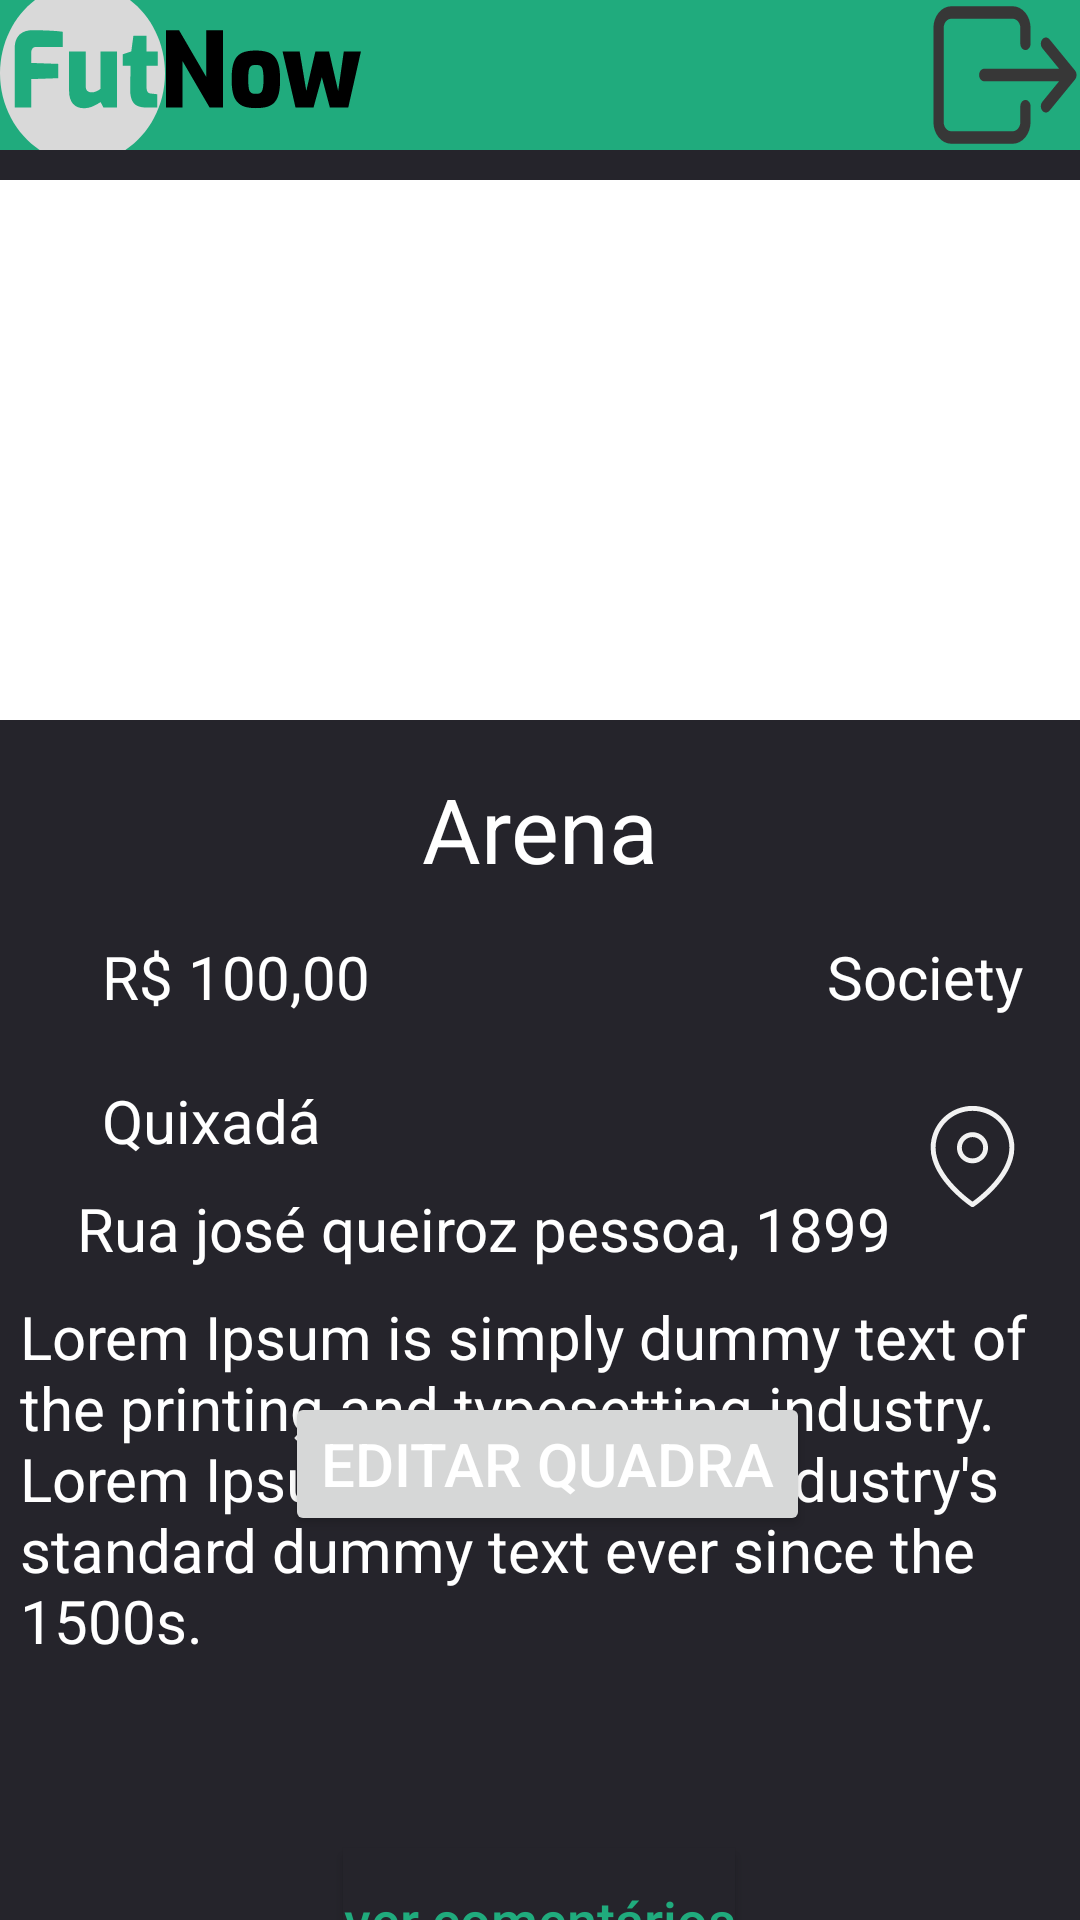

Locate icon controls on the screen. Image size 1080px x 1920px, boxes as bbox=(x1, y1, x2, y2).
map: bbox=(930, 1106, 1015, 1207)
